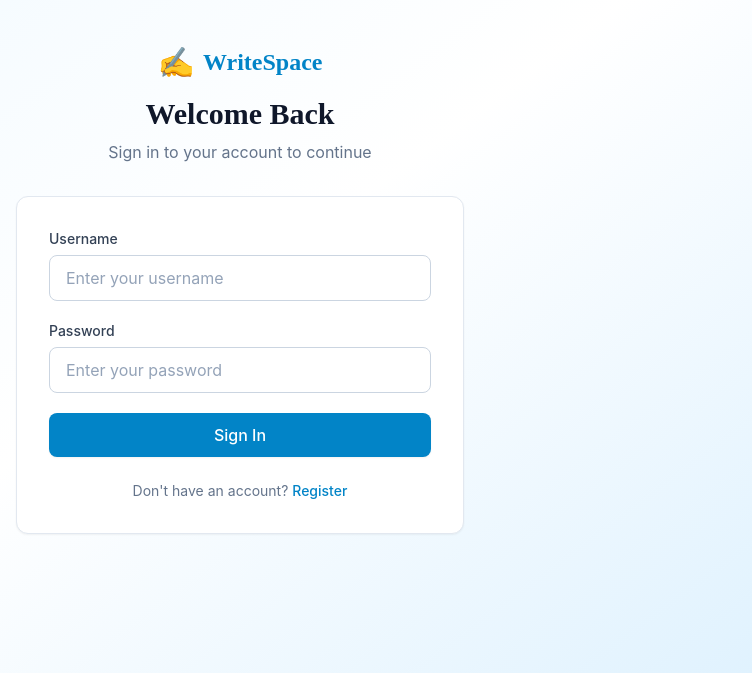
Scenario: App › navigation › login form shows error for invalid credentials
The image size is (752, 673).
Type "nonexistent" into the field labelled "Username" at (240, 278), box x1=49 y1=255 x2=431 y2=301
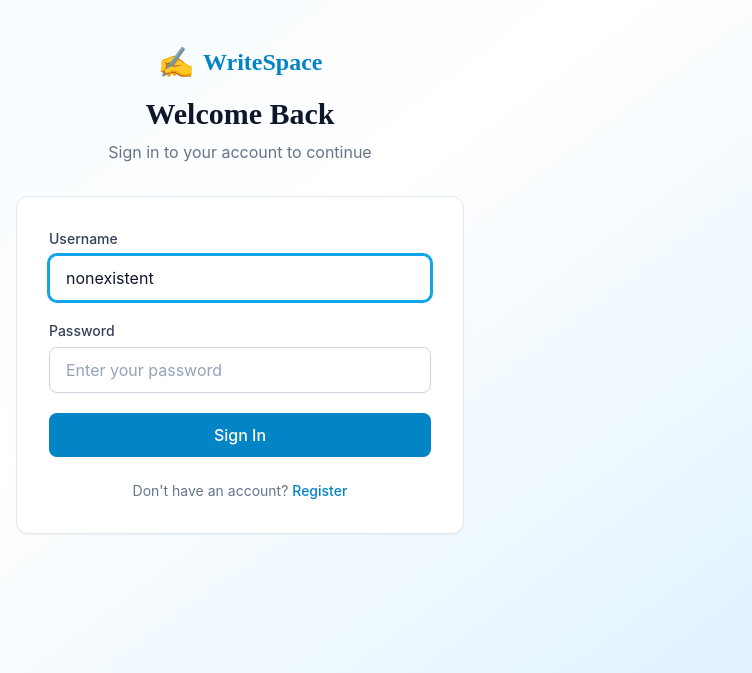
Type "wrongpassword" into the password field labelled "Password" at (240, 370), box x1=49 y1=347 x2=431 y2=393
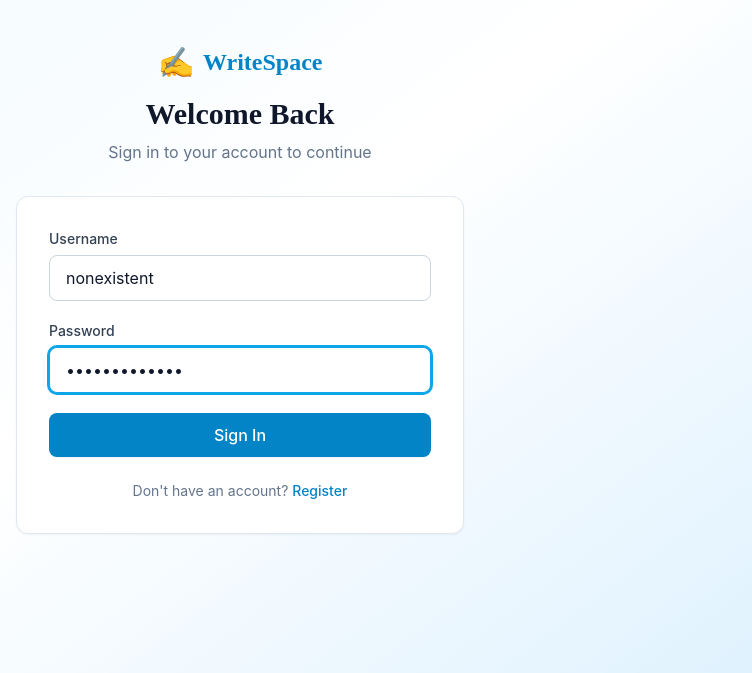
Click the button "Sign In" at (240, 435), box x1=49 y1=413 x2=431 y2=457
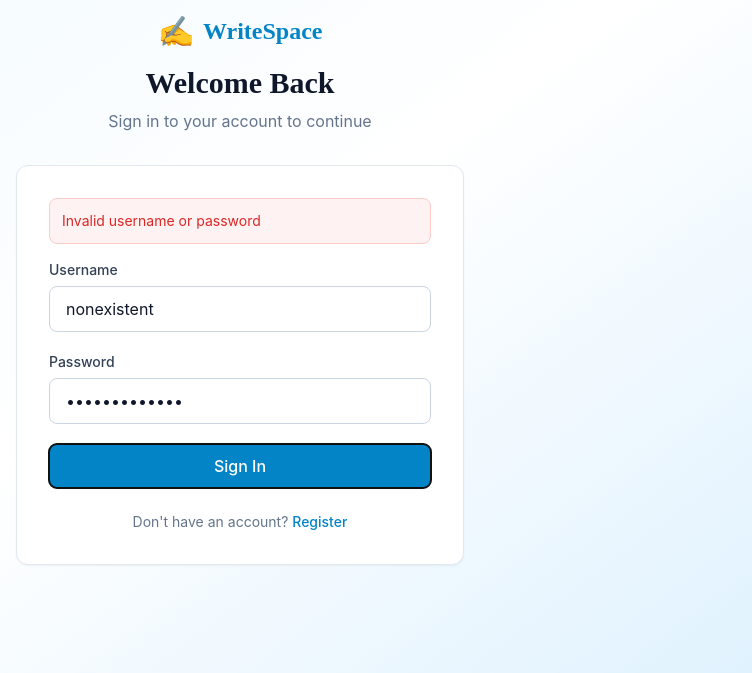
Now the text "Invalid username or password" is shown, box x1=49 y1=198 x2=431 y2=244
